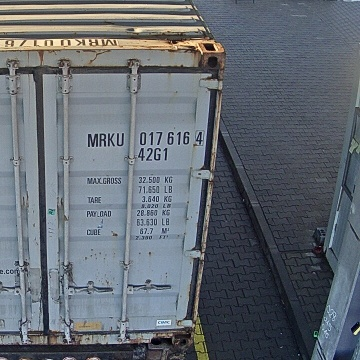serial_id: (88, 131, 203, 146)
